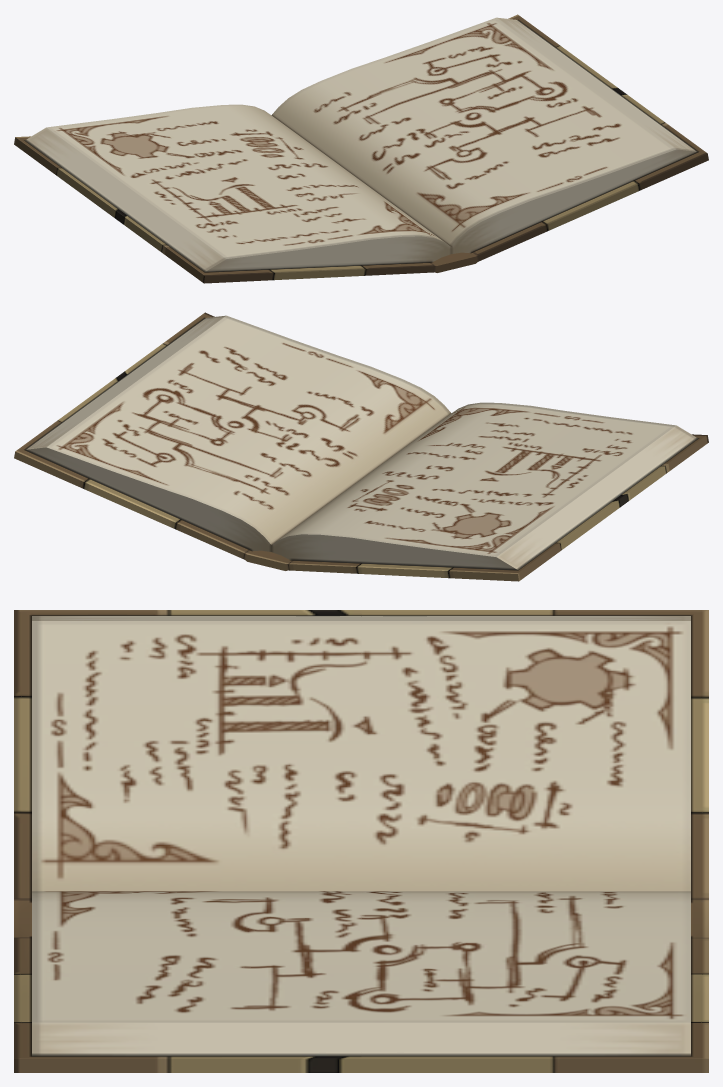
3 renders of one model, top to bottom at view 1: azimuth 30°, elevation 25°; view 2: azimuth 150°, elevation 25°; view 3: azimuth 270°, elevation 25°, orthographic. The views are drawn at different scales.
Parts seen in each view (by area): view 1: AvatarItem_Marionette_SpMarNote_Model; view 2: AvatarItem_Marionette_SpMarNote_Model; view 3: AvatarItem_Marionette_SpMarNote_Model.
Boxes of the visible parts, left/top/right/bottom form: AvatarItem_Marionette_SpMarNote_Model: left=14, top=14, right=708, bottom=283; AvatarItem_Marionette_SpMarNote_Model: left=14, top=312, right=708, bottom=581; AvatarItem_Marionette_SpMarNote_Model: left=14, top=610, right=708, bottom=1072.
Size of the model in its own units: 0.2587 by 0.0328 by 0.1685.
1 material, 1 textured.
